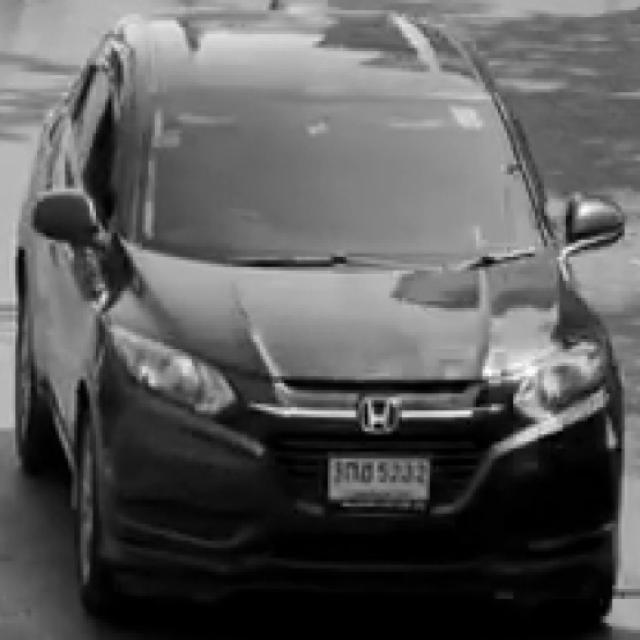plate: (329, 457, 430, 505)
